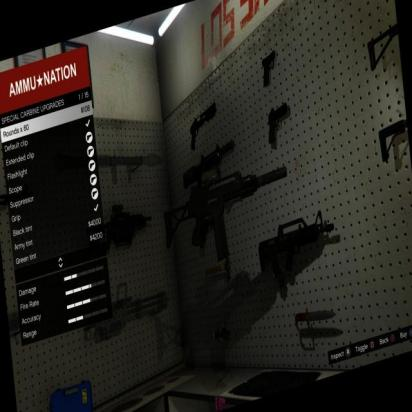Gun: (160, 166, 288, 271)
